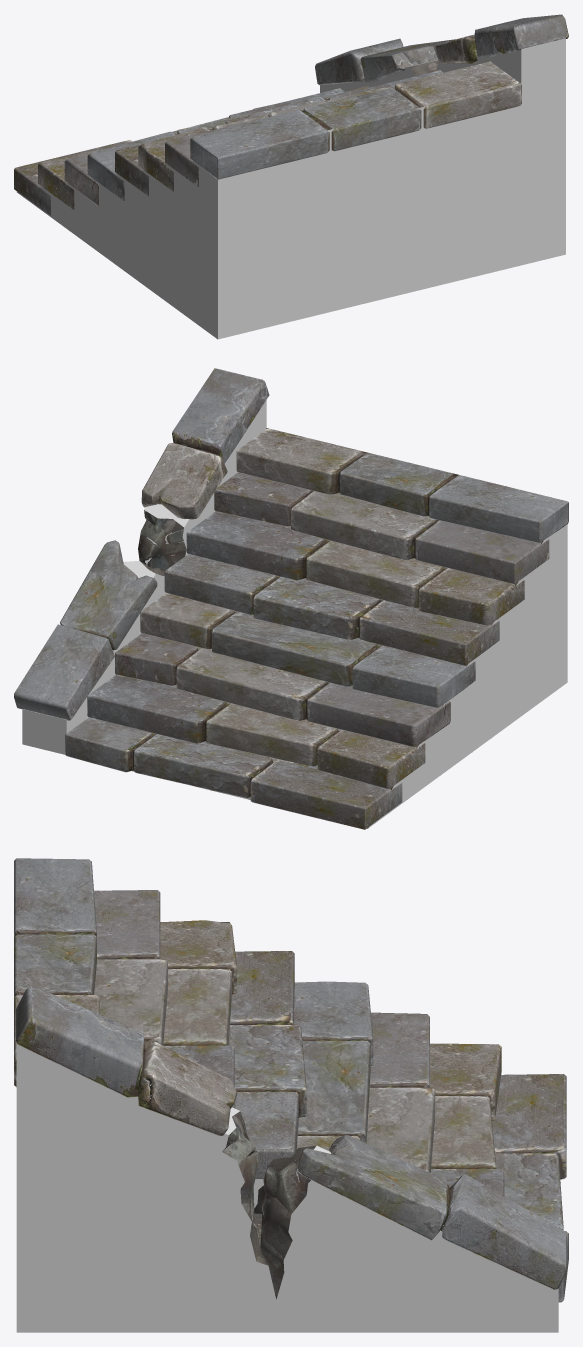
3 renders of one model, top to bottom at view 1: azimuth 30°, elevation 25°; view 2: azimuth 150°, elevation 25°; view 3: azimuth 270°, elevation 25°, orthographic. The views are drawn at different scales.
Parts seen in each view (by area): view 1: SM_DR_Steps_4x2_01_v2_LOD0; view 2: SM_DR_Steps_4x2_01_v2_LOD0; view 3: SM_DR_Steps_4x2_01_v2_LOD0.
Boxes of the visible parts, box(x1,y1,x2,y2) form: SM_DR_Steps_4x2_01_v2_LOD0: box(14, 14, 568, 339); SM_DR_Steps_4x2_01_v2_LOD0: box(14, 368, 568, 829); SM_DR_Steps_4x2_01_v2_LOD0: box(14, 858, 568, 1332).
Bounding box in the file's own units: 4.1 × 2.58 × 4.1.
Materials: 3 (2 with a texture image).
